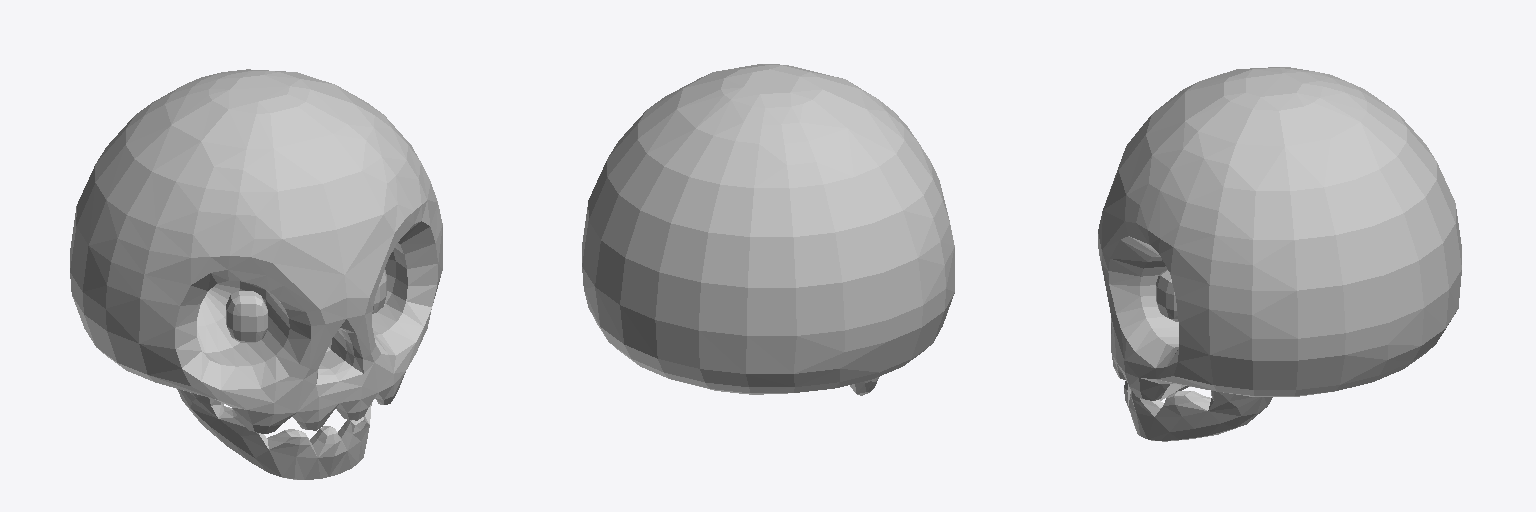
The model's file is skull.obj.
3 renders of one model, left to right at view 1: azimuth 30°, elevation 25°; view 2: azimuth 150°, elevation 25°; view 3: azimuth 270°, elevation 25°, orthographic.
Parts seen in each view (by area): view 1: skull, jaw, eyes; view 2: skull; view 3: skull, jaw, eyes.
Part boxes in pixels (left/top/right/bottom): skull: left=70, top=69, right=442, bottom=433; jaw: left=177, top=389, right=371, bottom=479; eyes: left=226, top=270, right=386, bottom=342; skull: left=582, top=64, right=954, bottom=394; skull: left=1098, top=67, right=1461, bottom=400; jaw: left=1124, top=381, right=1272, bottom=441; eyes: left=1156, top=270, right=1178, bottom=321.
Size of the model in its own units: 0.7637 by 0.7589 by 0.733.